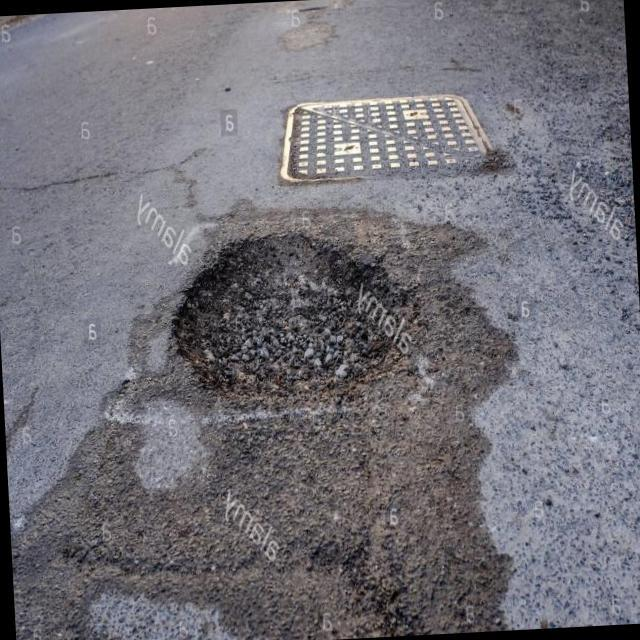Pothole: (174, 231, 413, 398)
